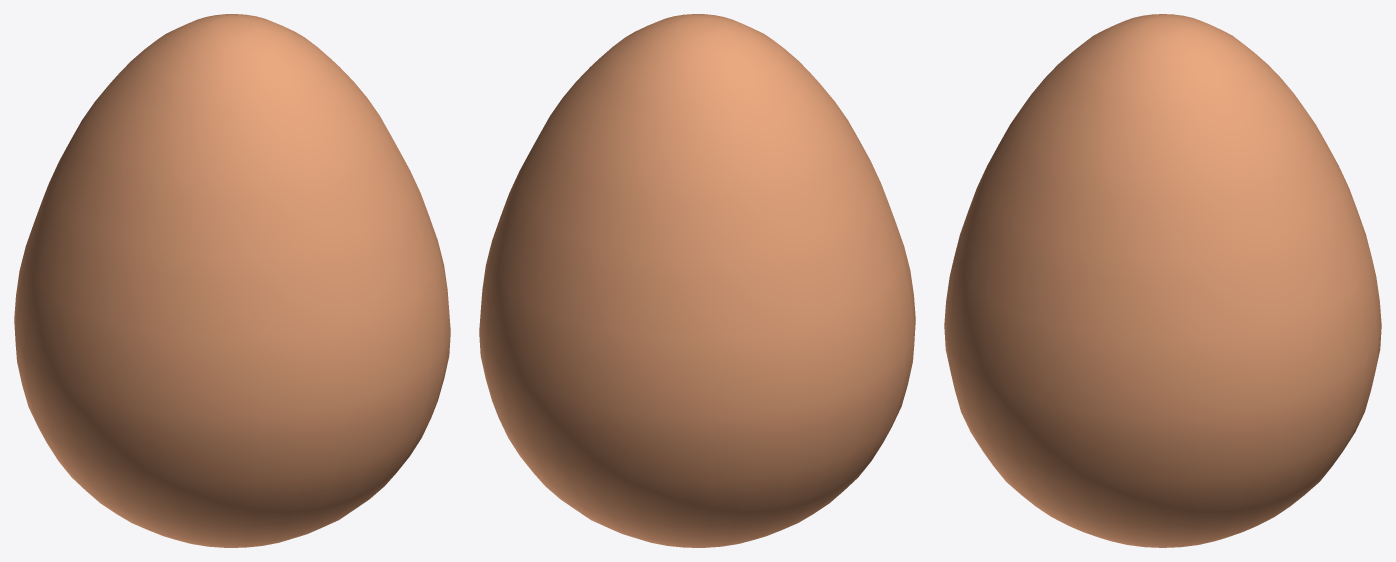
The model's file is Egg002.fbx.
3 renders of one model, left to right at view 1: azimuth 30°, elevation 25°; view 2: azimuth 150°, elevation 25°; view 3: azimuth 270°, elevation 25°, orthographic.
Parts seen in each view (by area): view 1: Sphere.003; view 2: Sphere.003; view 3: Sphere.003.
Part boxes in pixels (box(x1,y1,x2,y2)): Sphere.003: box(14, 14, 450, 547); Sphere.003: box(479, 14, 915, 547); Sphere.003: box(944, 14, 1381, 547).
Bounding box in the file's own units: 31.16 × 39.56 × 31.16.
